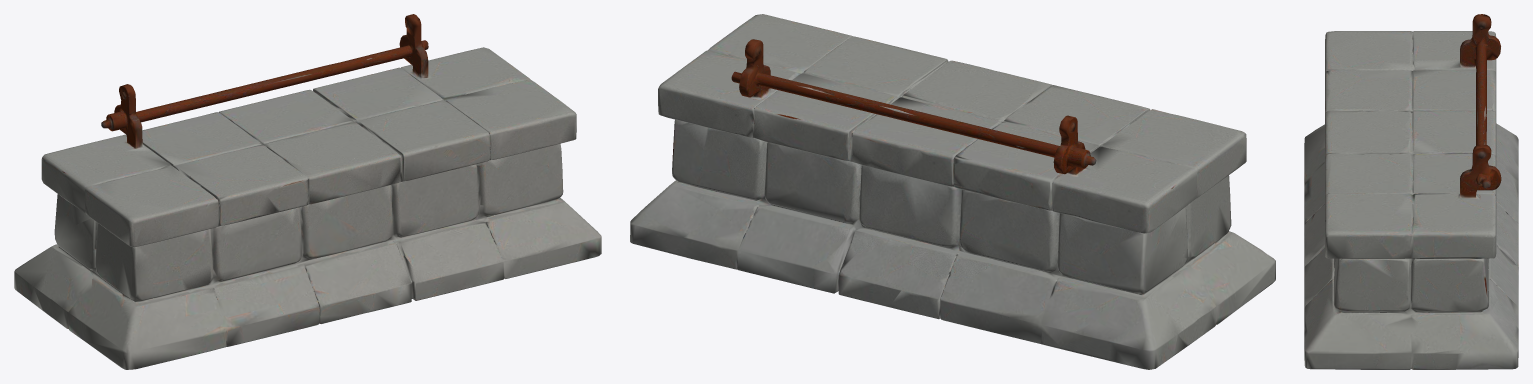
The model's file is vnBarrier.a6483a28.glb.
3 views of the same model, side by side, from view 1: azimuth 30°, elevation 25°; view 2: azimuth 150°, elevation 25°; view 3: azimuth 270°, elevation 25° (orthographic). The views are drawn at different scales.
Size of the model in its own units: 1.9 by 0.7343 by 0.7896.
Materials: 1 (1 with a texture image).
